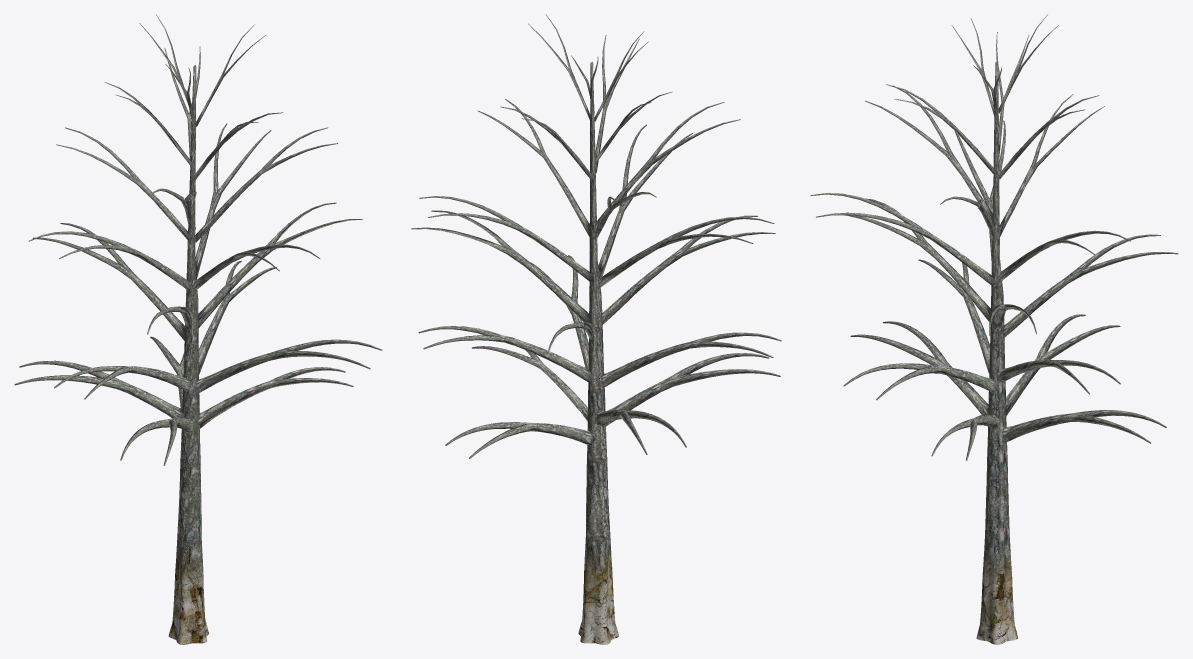
The model's file is tree_base.glb.
3 renders of one model, left to right at view 1: azimuth 30°, elevation 25°; view 2: azimuth 150°, elevation 25°; view 3: azimuth 270°, elevation 25°, orthographic.
Parts seen in each view (by area): view 1: LowPolyTree.002_Default OBJ.001_0; view 2: LowPolyTree.002_Default OBJ.001_0; view 3: LowPolyTree.002_Default OBJ.001_0.
Part boxes in pixels (<box>): LowPolyTree.002_Default OBJ.001_0: <box>14,14,382,644</box>; LowPolyTree.002_Default OBJ.001_0: <box>411,14,781,644</box>; LowPolyTree.002_Default OBJ.001_0: <box>810,14,1178,644</box>.
Bounding box in the file's own units: 20.17 × 35.38 × 19.38.
1 material, 1 textured.
